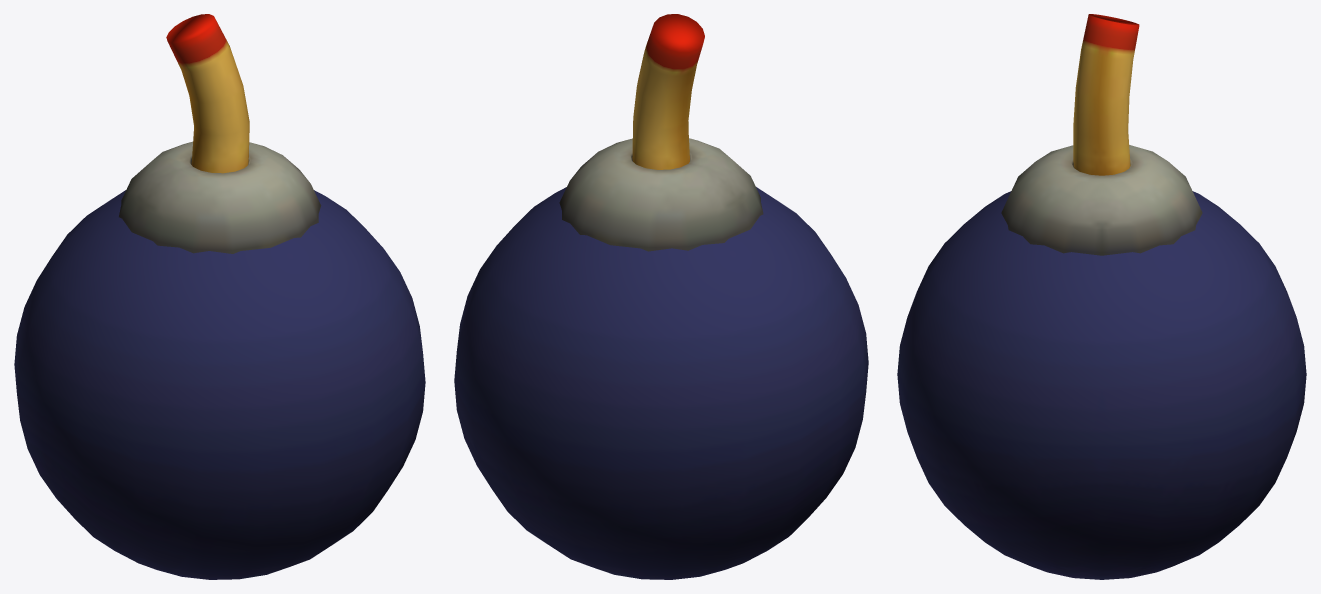
Rendered from Bomb.fbx.
3 renders of one model, left to right at view 1: azimuth 30°, elevation 25°; view 2: azimuth 150°, elevation 25°; view 3: azimuth 270°, elevation 25°, orthographic.
Visible parts, largest first — view 1: ModelBomb; view 2: ModelBomb; view 3: ModelBomb.
Boxes of the visible parts, box(x1,y1,x2,y2) form: ModelBomb: box(14, 14, 425, 579); ModelBomb: box(454, 14, 868, 579); ModelBomb: box(897, 14, 1306, 579).
Size of the model in its own units: 75.26 by 109 by 74.93.
1 material, 1 textured.
